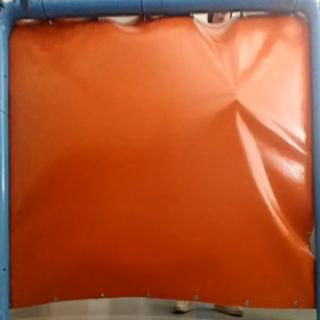Hit-hRxx: (230, 94, 247, 107)
